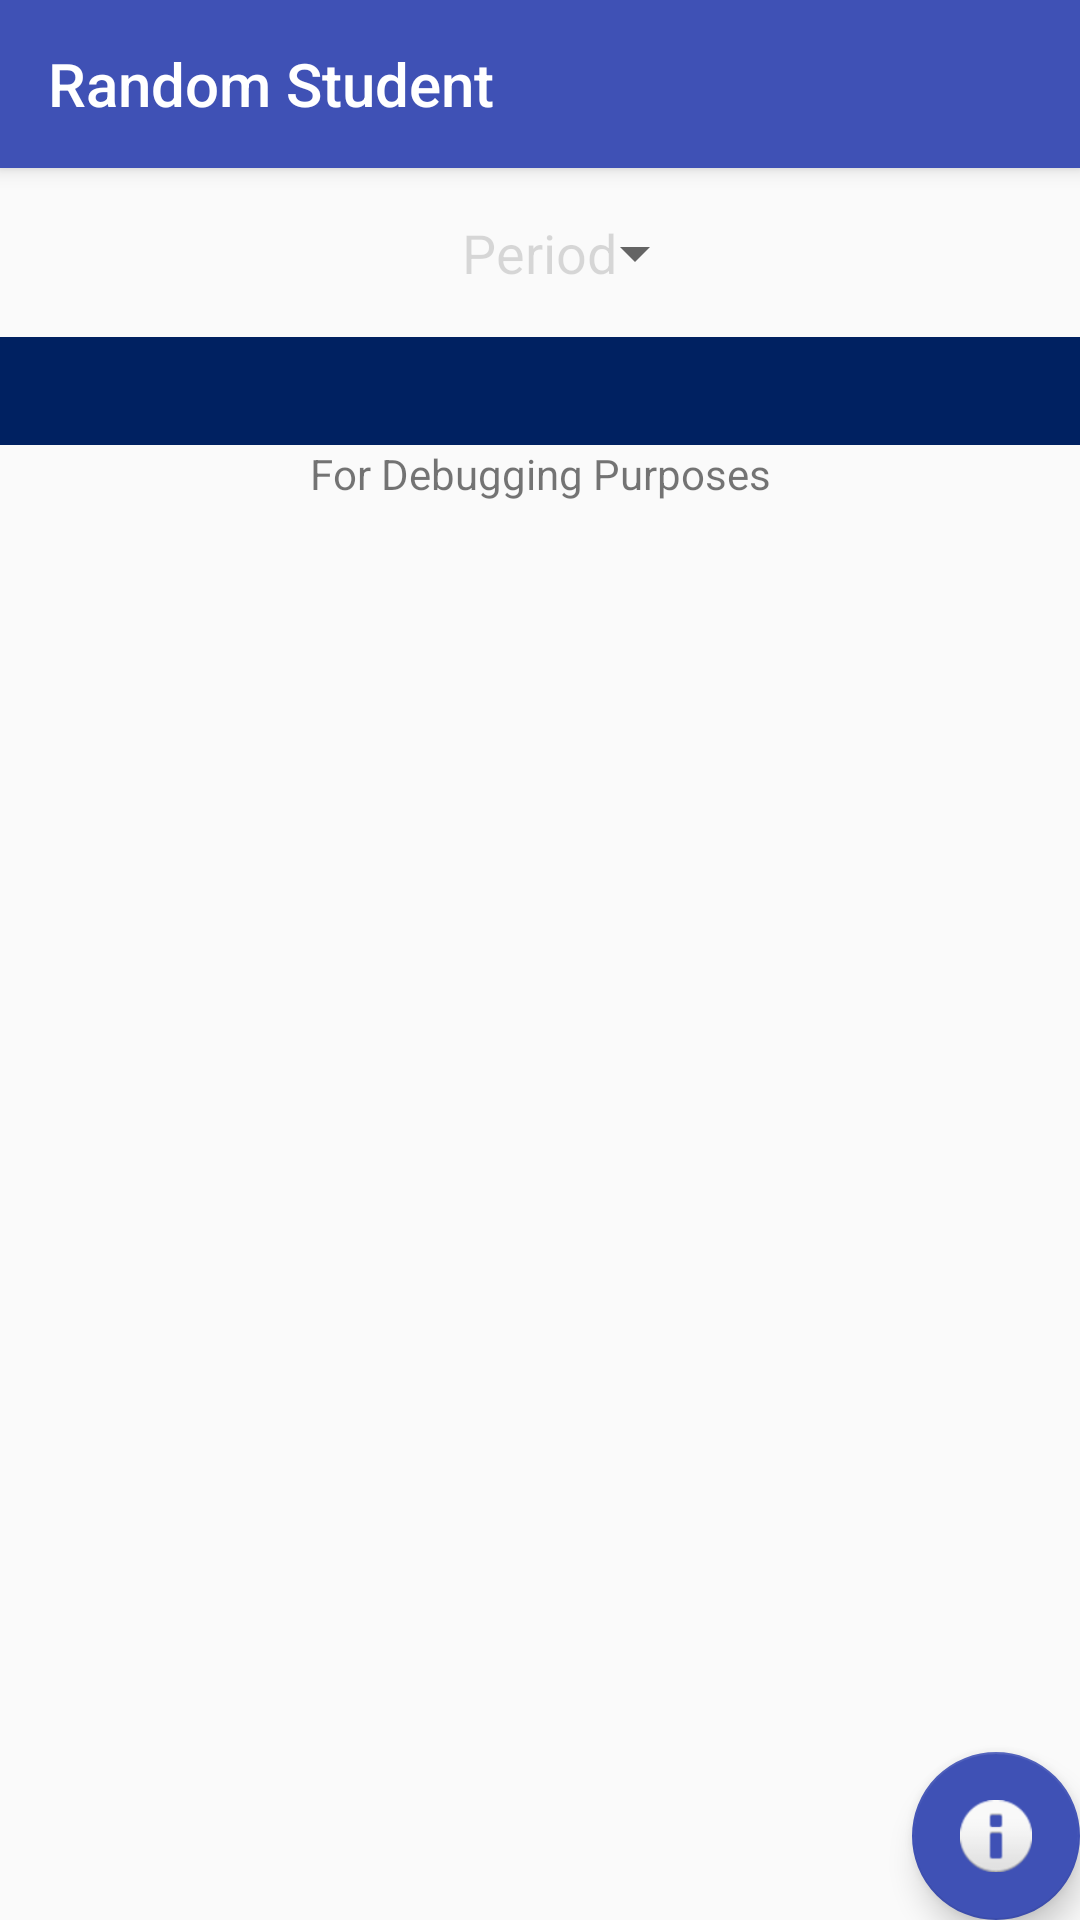

Icons on this 1080 × 1920 Android screen, each with its box as (x1, y1, x2, y2):
info: (912, 1752, 1080, 1920)
